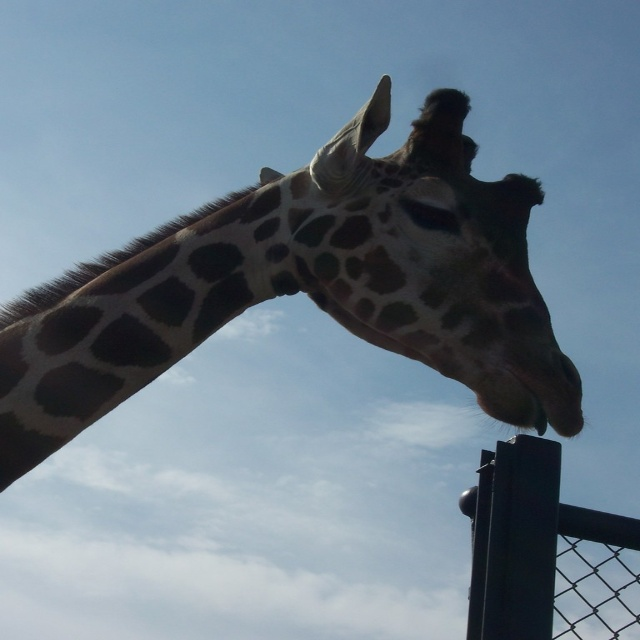Giraffe: (0, 72, 595, 494)
